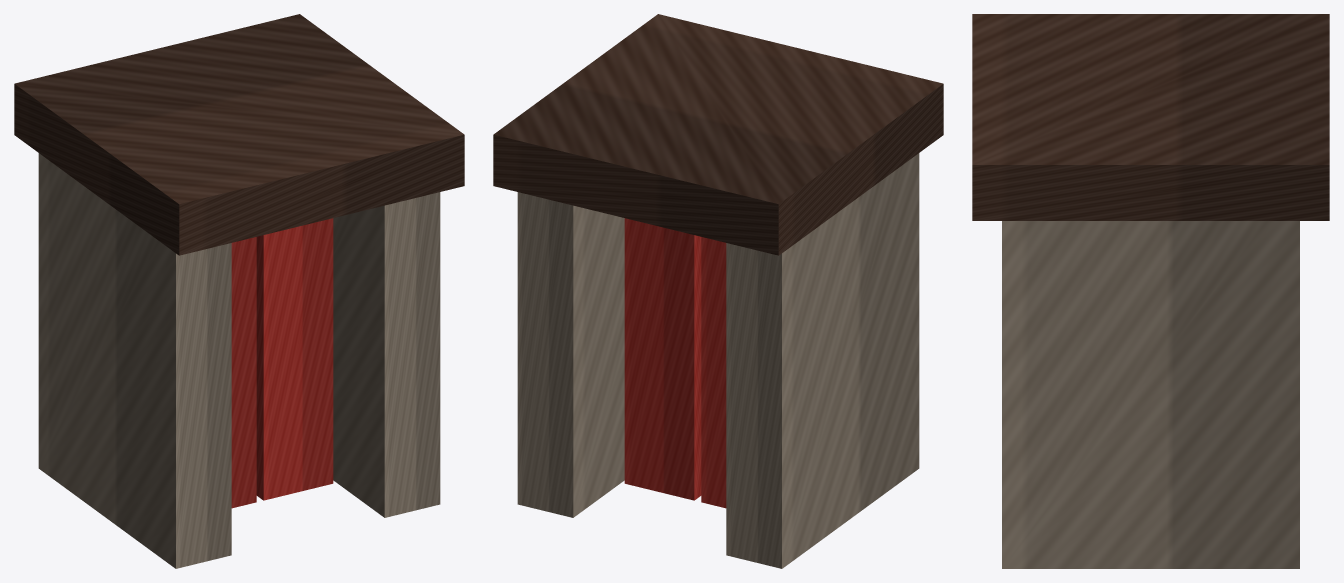
Rendered from gate.glb.
The picture shows the model from 3 angles, left to right: view 1: azimuth 30°, elevation 25°; view 2: azimuth 150°, elevation 25°; view 3: azimuth 270°, elevation 25°; orthographic projection. The views are drawn at different scales.
Parts seen in each view (by area): view 1: Cube; view 2: Cube; view 3: Cube.
Part boxes in pixels (left/top/right/bottom): Cube: left=14, top=14, right=464, bottom=568; Cube: left=493, top=14, right=943, bottom=568; Cube: left=972, top=14, right=1329, bottom=568.
Size of the model in its own units: 0.855 by 1.08 by 0.855.
Materials: 1 (1 with a texture image).
